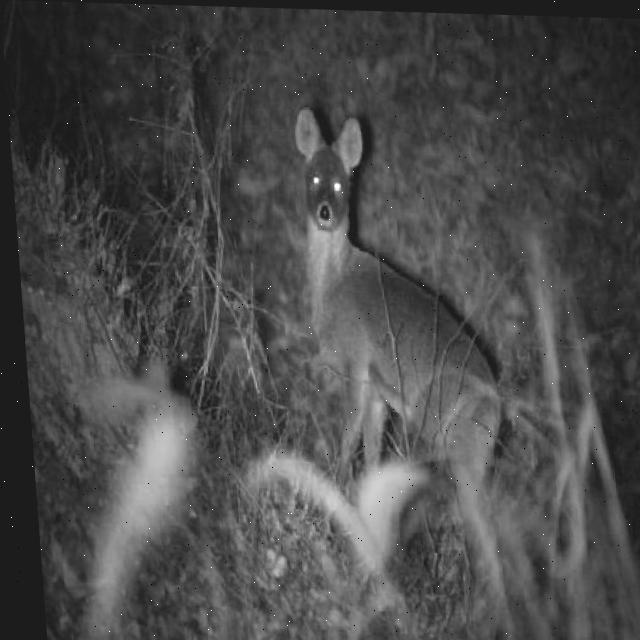Deer: (266, 93, 536, 640)
